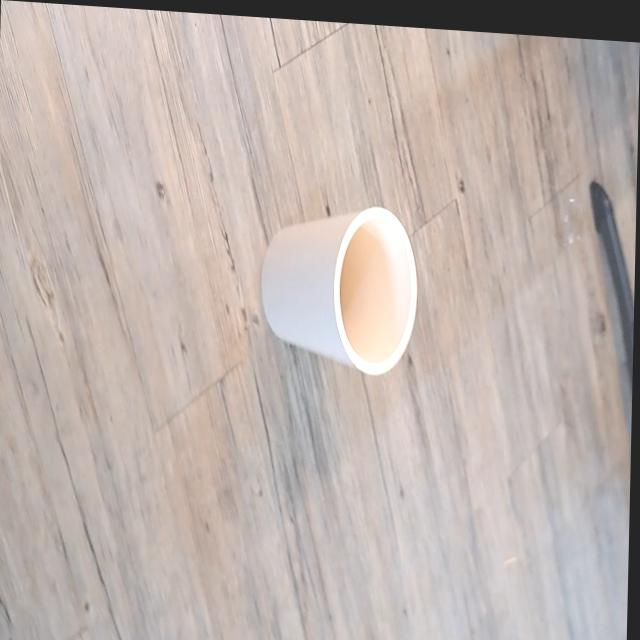CORAL: (243, 163, 432, 393)
